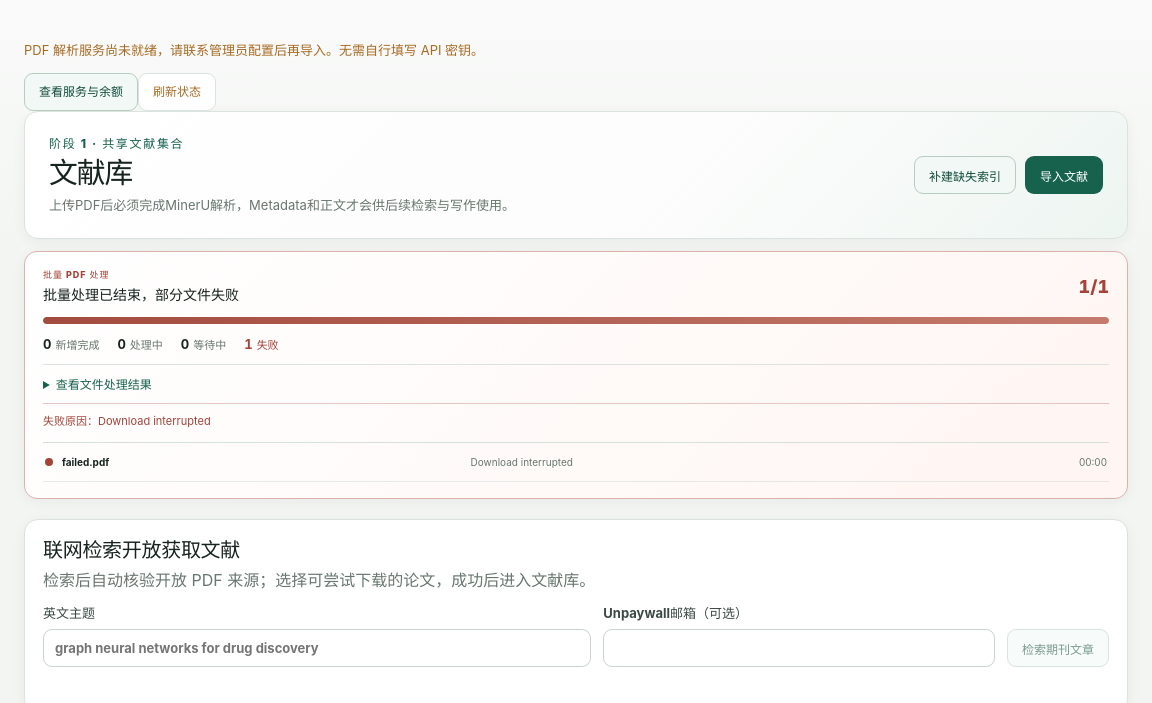
Test: restores a completed batch older than the former twelve-second timeout
This screenshot has width=1152, height=703.
expect the text "批量处理已结束，部分文件失败" is shown: met, box [43,284,239,304]
Click the heading "查看文件处理结果" at (104, 385), box [56,377,152,392]
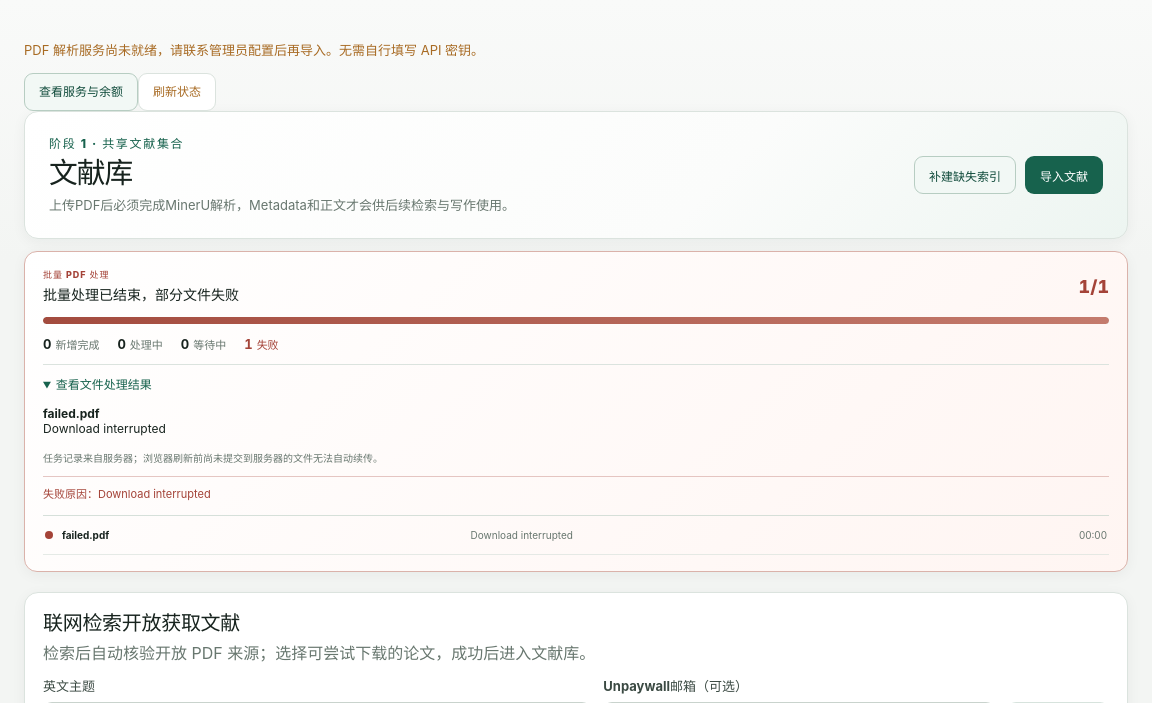
expect the text "failed.pdf" below "查看文件处理结果" is shown: met, box [43,406,100,421]
